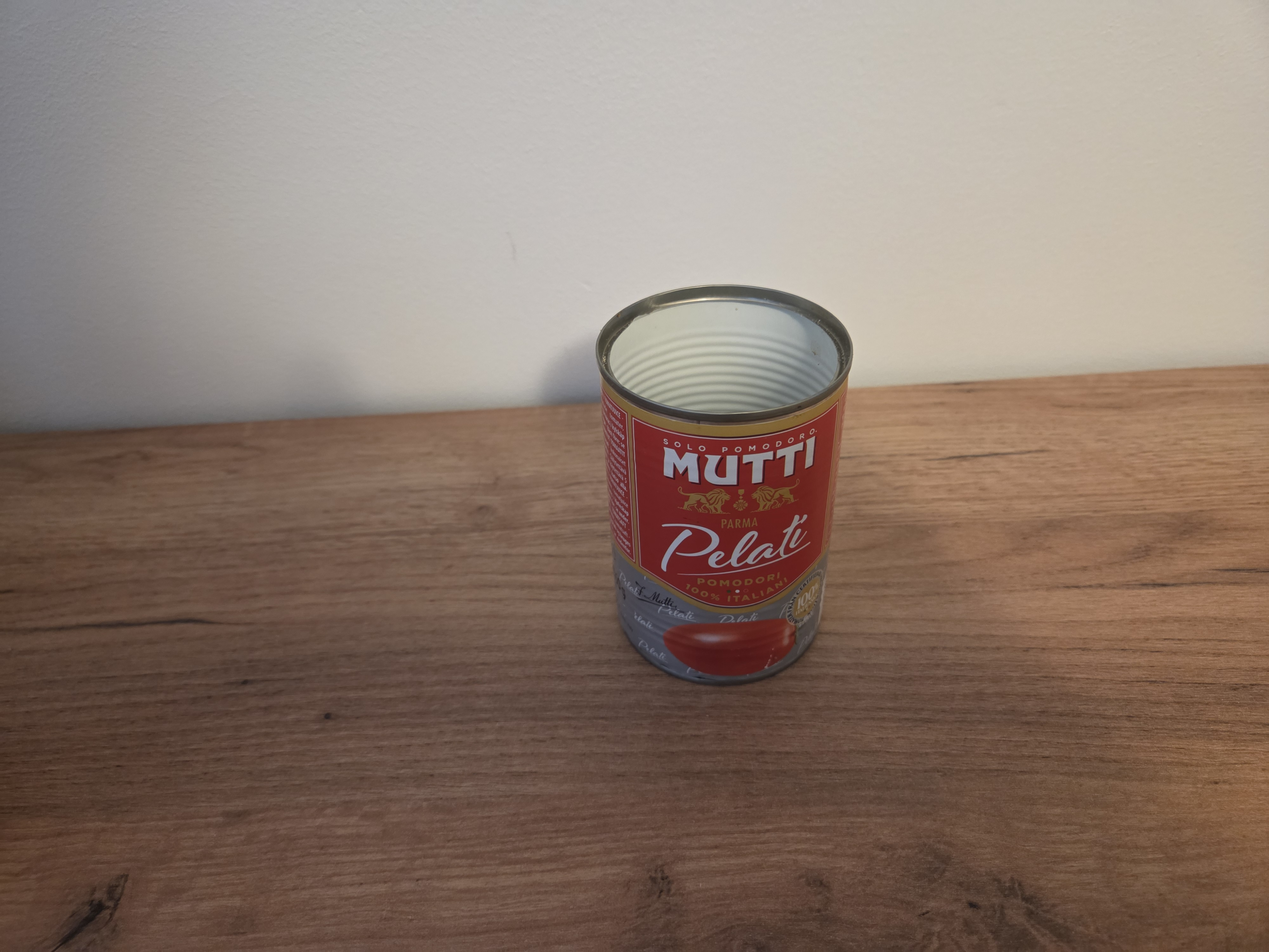Konservburk: (595, 284, 855, 687)
